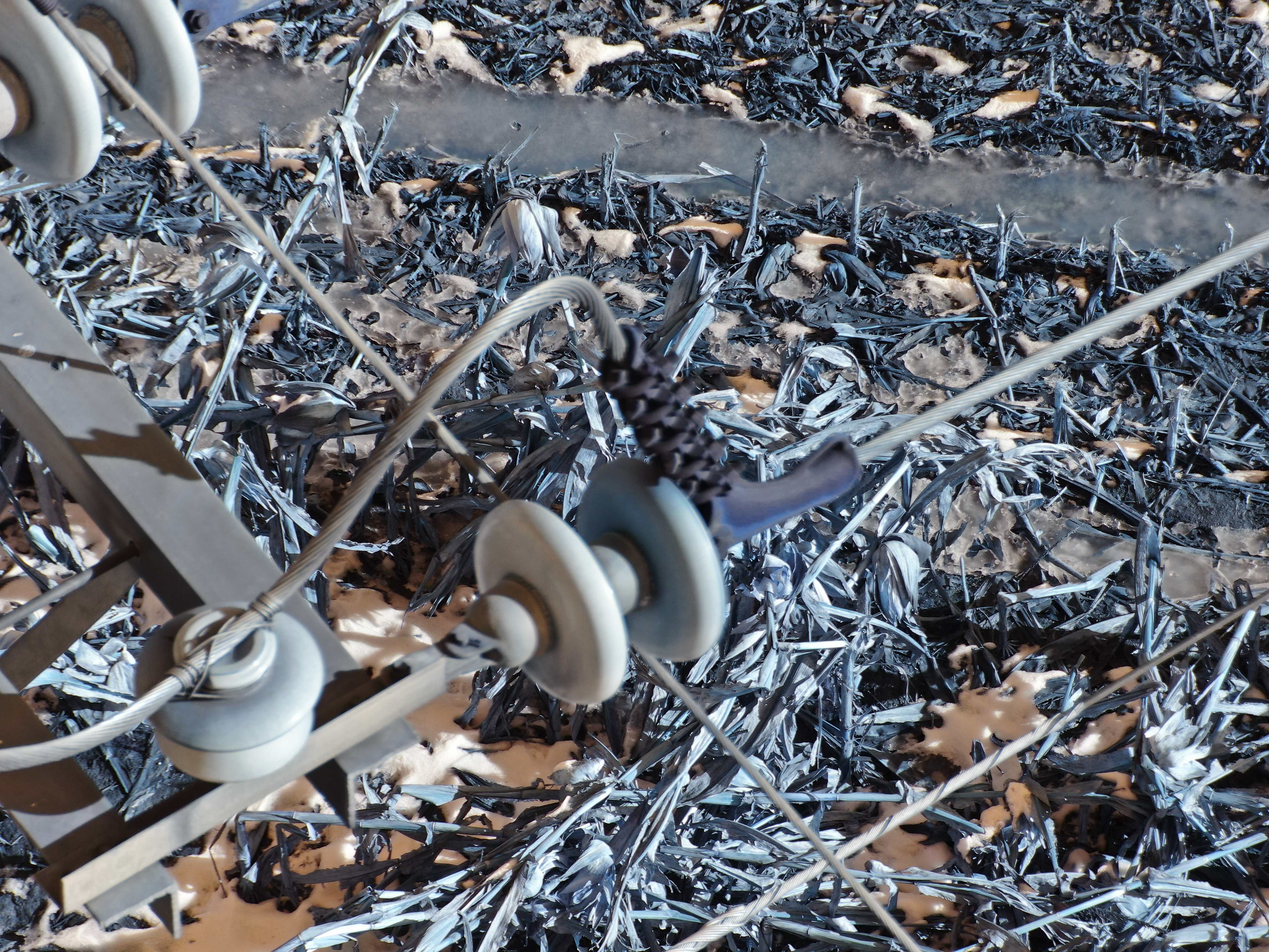severe_soiling_no_discharge_whole: (469, 451, 736, 707), (131, 590, 333, 785)
